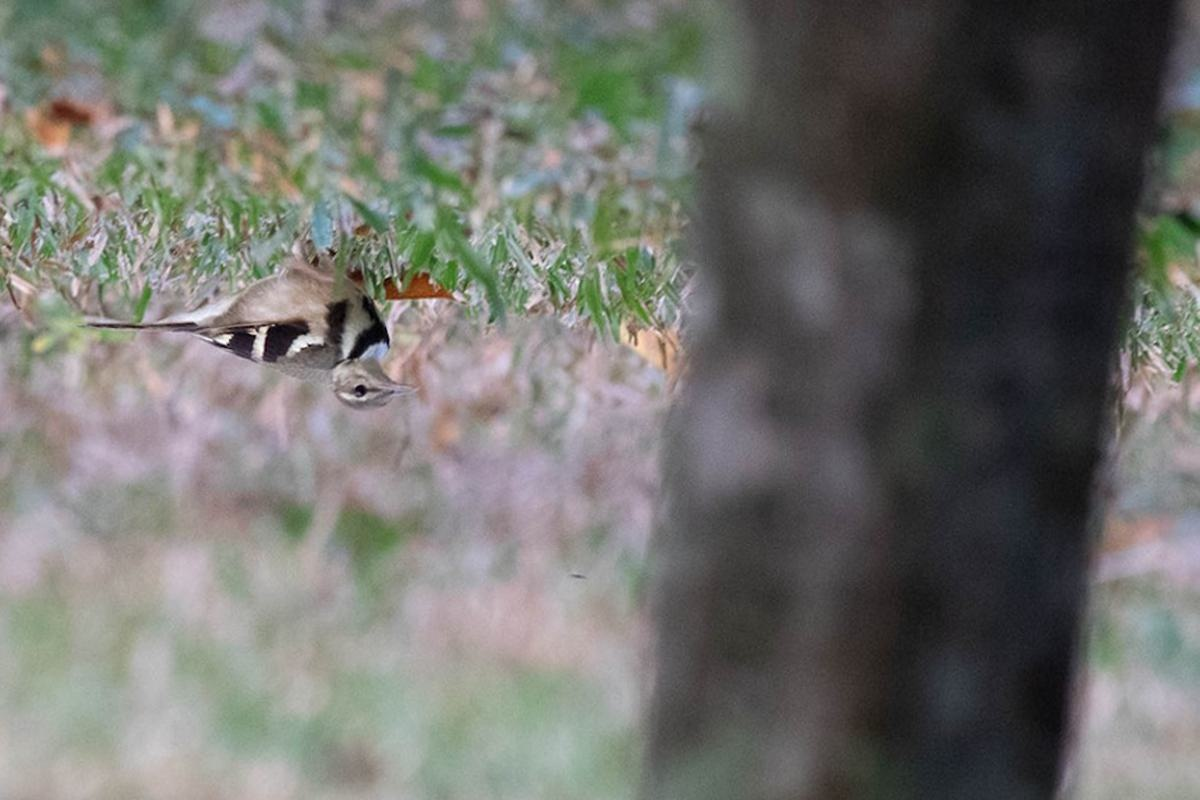wagtail: (116, 236, 417, 422)
